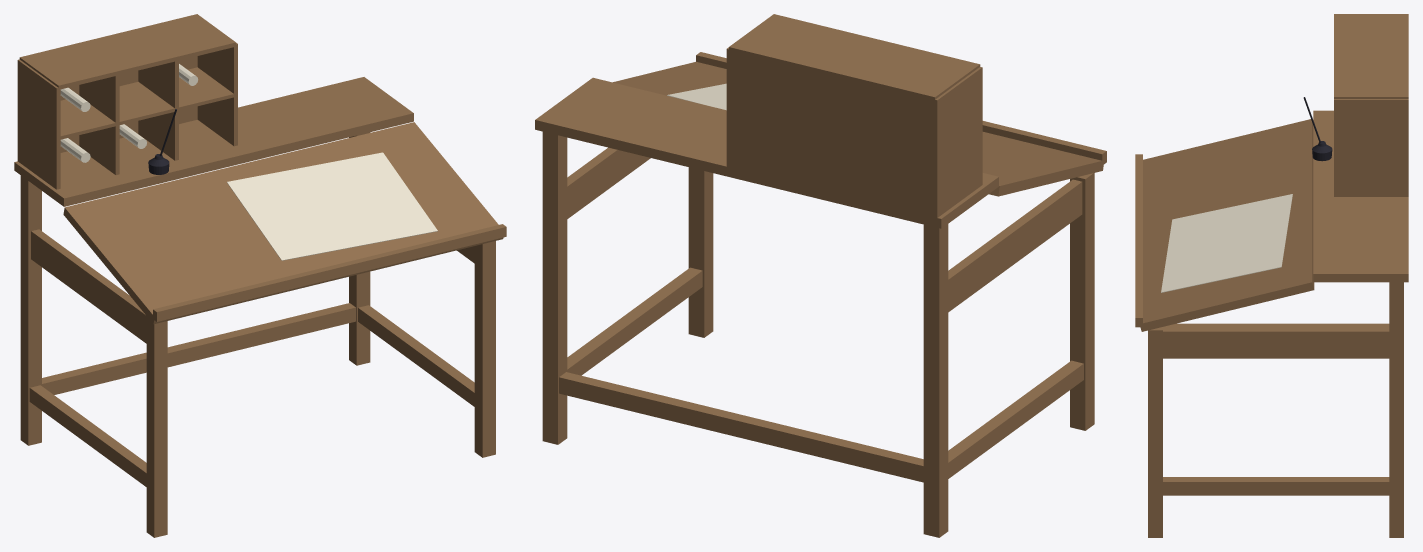
File: Prop_DraftingDesk.fbx
The picture shows the model from 3 angles, left to right: view 1: azimuth 30°, elevation 25°; view 2: azimuth 150°, elevation 25°; view 3: azimuth 270°, elevation 25°; orthographic projection. The views are drawn at different scales.
Visible parts, largest first — view 1: DraftingDesk_Wood, DraftingDesk_Papers; view 2: DraftingDesk_Wood, DraftingDesk_Papers; view 3: DraftingDesk_Wood, DraftingDesk_Papers, DraftingDesk_Inkwell.
Part boxes in pixels (bbox=[...]): DraftingDesk_Wood: bbox=[14, 14, 506, 537]; DraftingDesk_Papers: bbox=[60, 64, 437, 260]; DraftingDesk_Wood: bbox=[535, 14, 1106, 537]; DraftingDesk_Papers: bbox=[667, 83, 726, 110]; DraftingDesk_Wood: bbox=[1135, 14, 1408, 537]; DraftingDesk_Papers: bbox=[1161, 194, 1292, 292]; DraftingDesk_Inkwell: bbox=[1303, 97, 1332, 161].
Size of the model in its own units: 1.3 by 1.35 by 0.9175.
